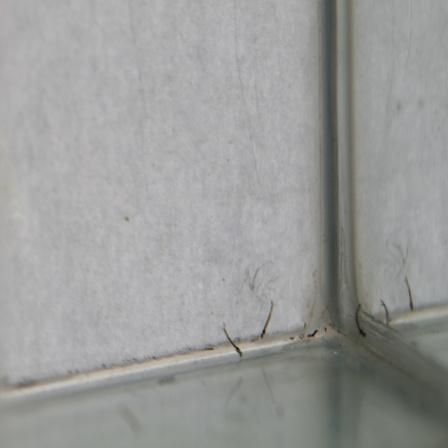Jentik-Nyamuk: (221, 324, 247, 361), (258, 302, 278, 337), (353, 303, 368, 340)
